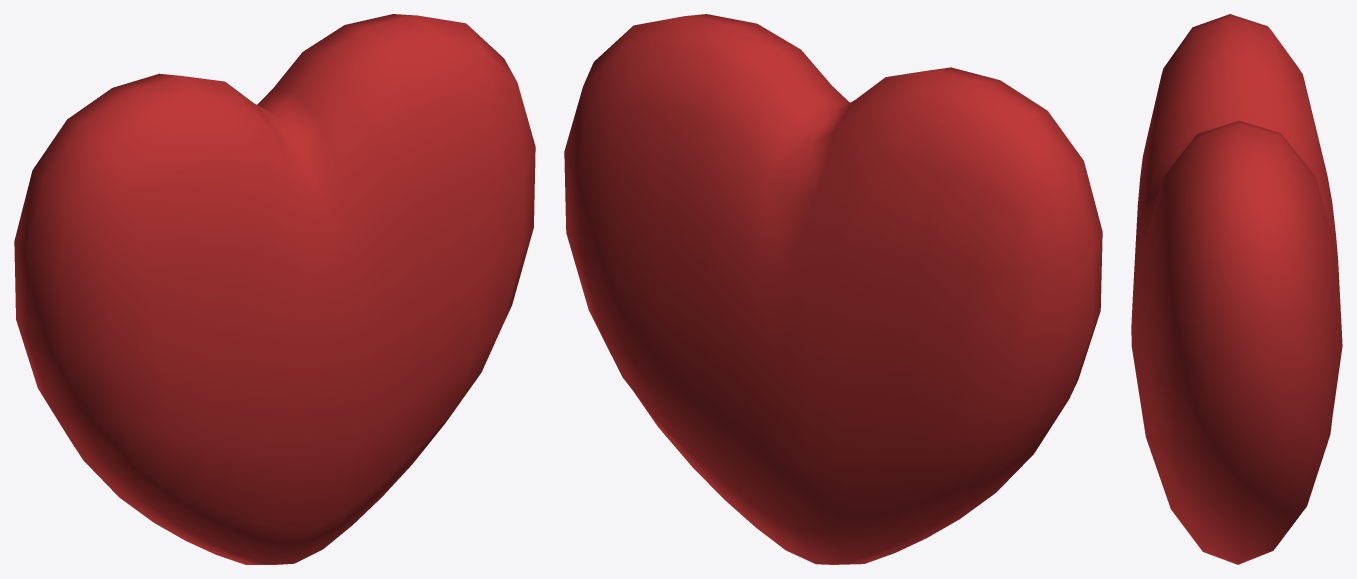
The model's file is heart.fbx.
3 views of the same model, side by side, from view 1: azimuth 30°, elevation 25°; view 2: azimuth 150°, elevation 25°; view 3: azimuth 270°, elevation 25° (orthographic). The views are drawn at different scales.
Visible parts, largest first — view 1: heart_v2; view 2: heart_v2; view 3: heart_v2.
Boxes of the visible parts, left/top/right/bottom form: heart_v2: left=14, top=14, right=535, bottom=564; heart_v2: left=564, top=14, right=1102, bottom=564; heart_v2: left=1131, top=14, right=1342, bottom=564.
Size of the model in its own units: 50.61 by 48.94 by 19.65.
